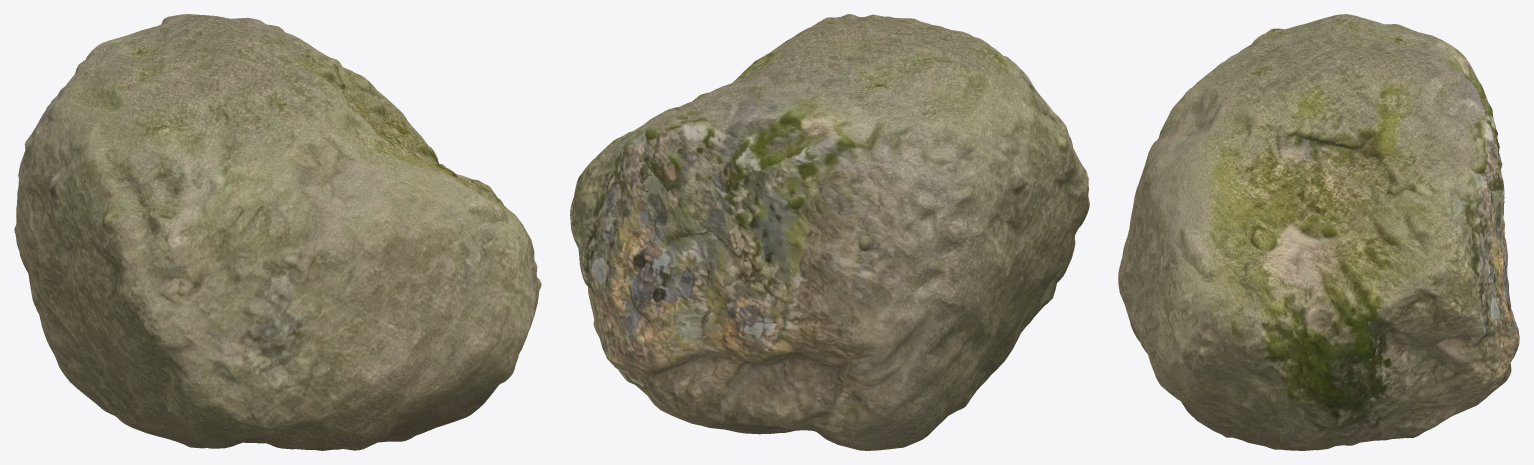
The model's file is prop_boulder.glb.
3 views of the same model, side by side, from view 1: azimuth 30°, elevation 25°; view 2: azimuth 150°, elevation 25°; view 3: azimuth 270°, elevation 25° (orthographic). The views are drawn at different scales.
Visible parts, largest first — view 1: Mesh_0; view 2: Mesh_0; view 3: Mesh_0.
Boxes of the visible parts, x1,y1,x2,y2 form: Mesh_0: (14,14,541,450); Mesh_0: (570,14,1089,450); Mesh_0: (1118,14,1519,450).
Bounding box in the file's own units: 1.91 × 1.75 × 1.82.
Materials: 1 (1 with a texture image).
